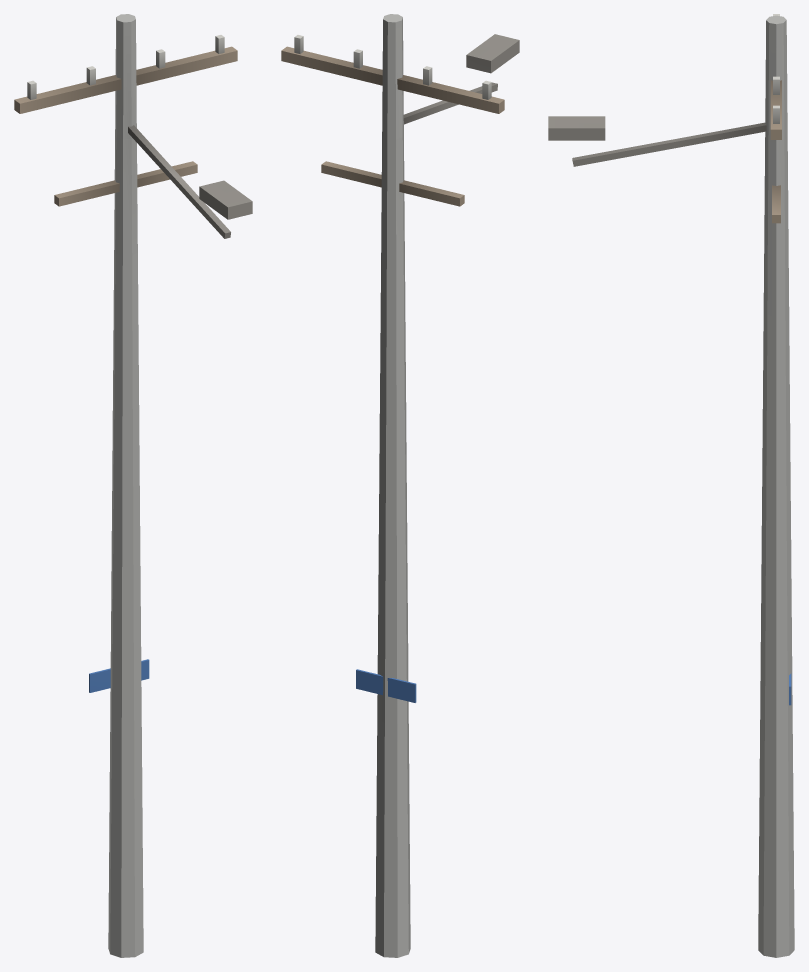
File: poste.glb
3 renders of one model, left to right at view 1: azimuth 30°, elevation 25°; view 2: azimuth 150°, elevation 25°; view 3: azimuth 270°, elevation 25°, orthographic.
Visible parts, largest first — view 1: poste, cruzeta, luminaria, placa_rua; view 2: poste, cruzeta, luminaria, placa_rua; view 3: poste, luminaria, cruzeta.
Part boxes in pixels (<box>): poste: <box>108,14,143,957</box>; cruzeta: <box>14,35,237,206</box>; luminaria: <box>128,125,252,238</box>; placa_rua: <box>89,659,149,692</box>; poste: <box>375,14,410,957</box>; cruzeta: <box>281,35,504,206</box>; luminaria: <box>403,34,519,124</box>; placa_rua: <box>356,669,416,702</box>; poste: <box>758,15,794,957</box>; luminaria: <box>548,116,766,166</box>; cruzeta: <box>770,14,781,223</box>.
Size of what is drawn, in the model's own units: 2.2 by 9 by 2.16.
